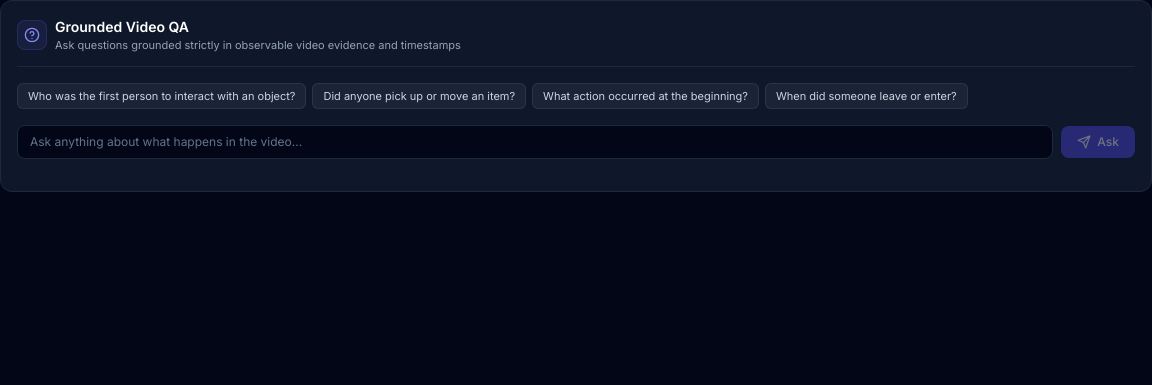
Task 5: Video Understanding, QA, Review and Export Test Suite › 2. Grounded Video QA (Mode A) › enables question asking once a staged clip is uploaded and analyzed
The width and height of the screenshot is (1152, 385).
In the field with test id "grounded-qa-input": (535, 142) [17, 125, 1053, 159], type "Who picked up the cup?"
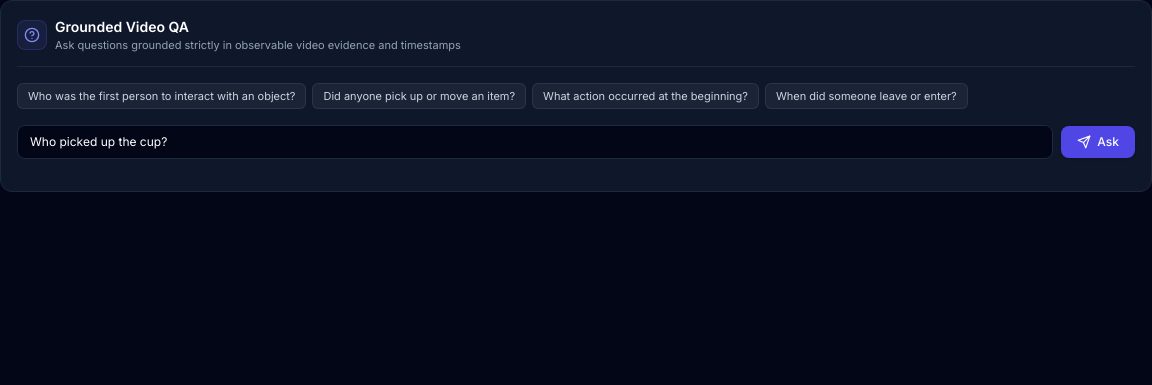
Click the button with test id "grounded-qa-ask-btn": (1098, 142) [1061, 126, 1135, 158]
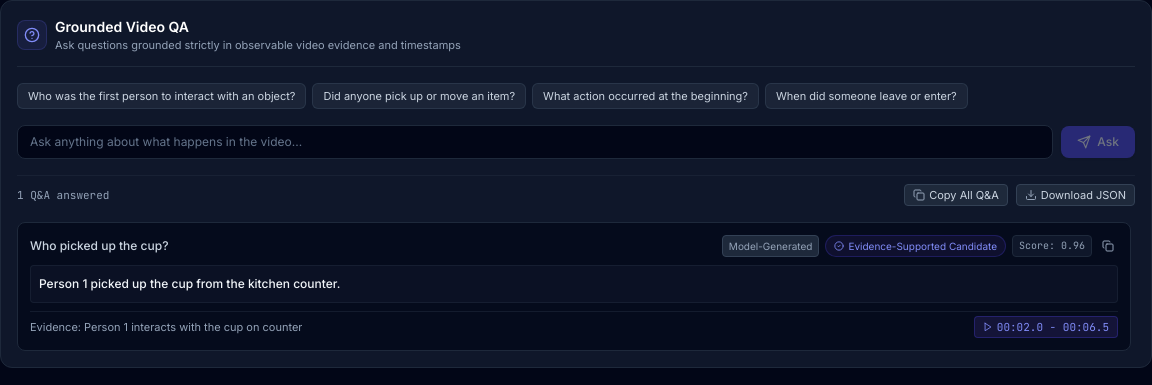
Expected: the text "Person 1 picked up the cup from the kitchen counter." is shown, [30, 265, 1118, 302]
Expected: the text "Evidence-Supported Candidate" is shown, [848, 238, 997, 254]
Expected: the text "Model-Generated" is shown, [722, 235, 819, 257]
